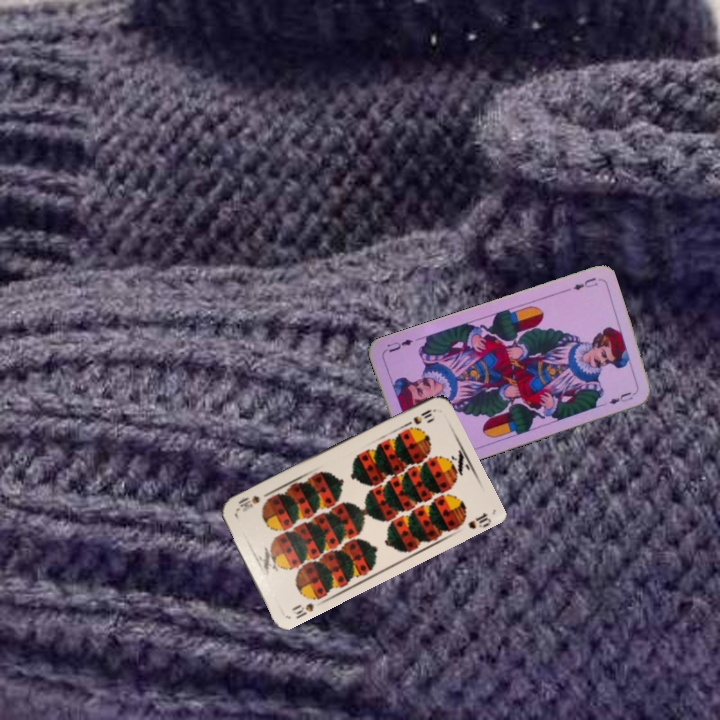EU: (569, 273, 600, 293)
S10: (400, 405, 438, 429), (287, 599, 316, 621)
